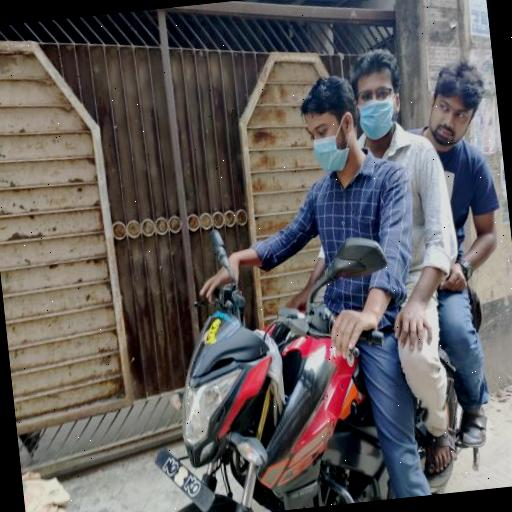no helmet: (264, 21, 402, 247)
triple riding: (97, 7, 512, 512)
